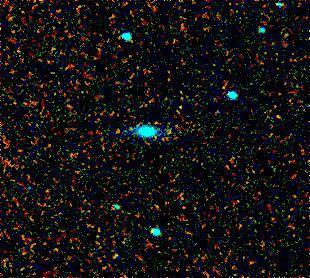star: (103, 116, 133, 146)
